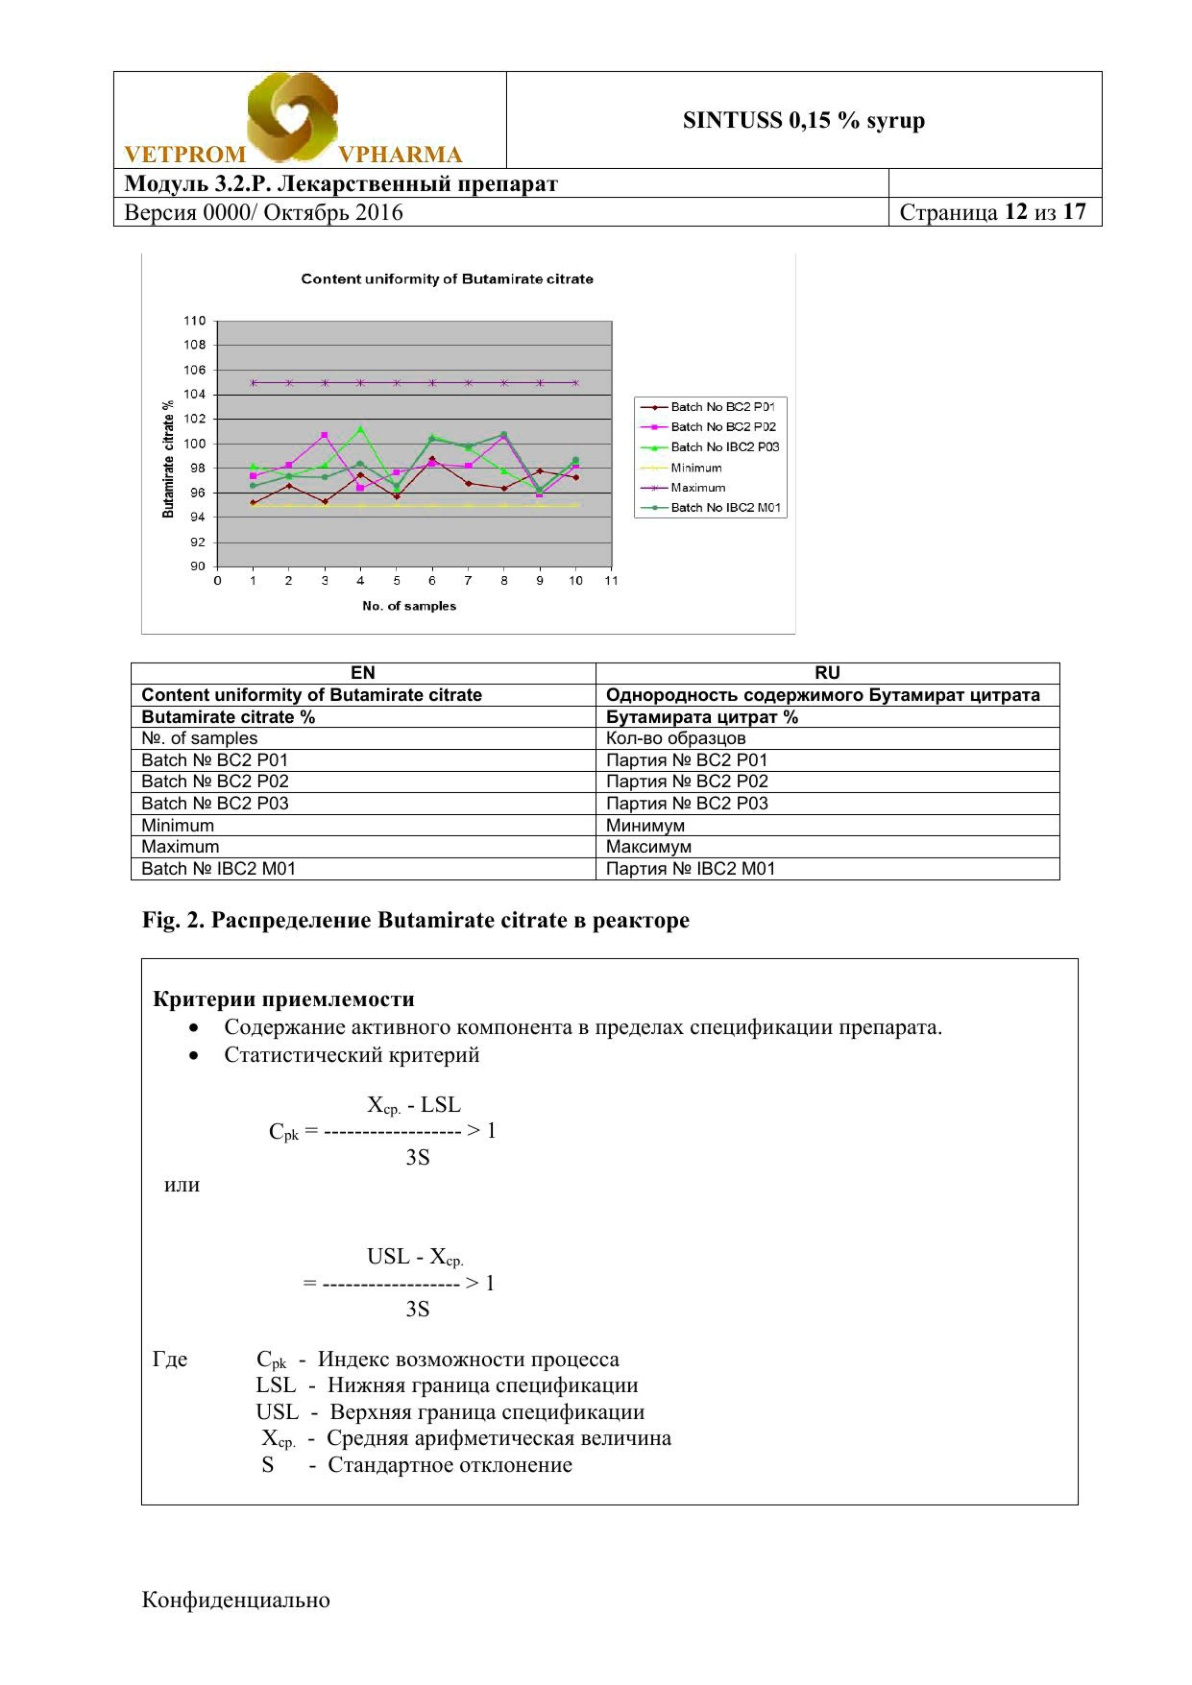full_lined: (129, 662, 1060, 881)
merged_cells: (111, 70, 1104, 227)
